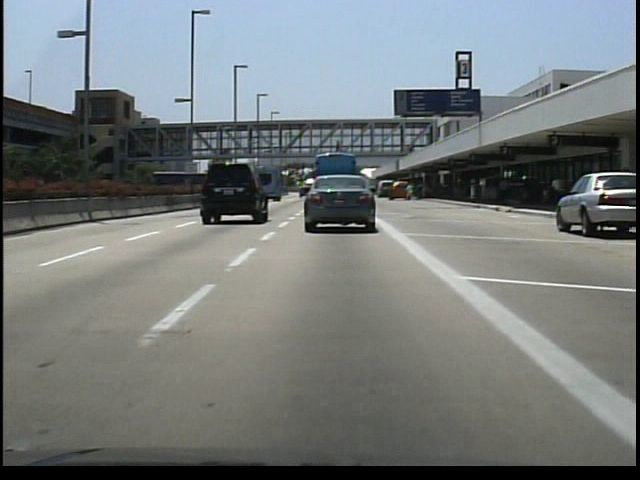person: (548, 170, 567, 211), (495, 174, 513, 210), (403, 179, 419, 206), (367, 137, 380, 159), (332, 136, 345, 156)
